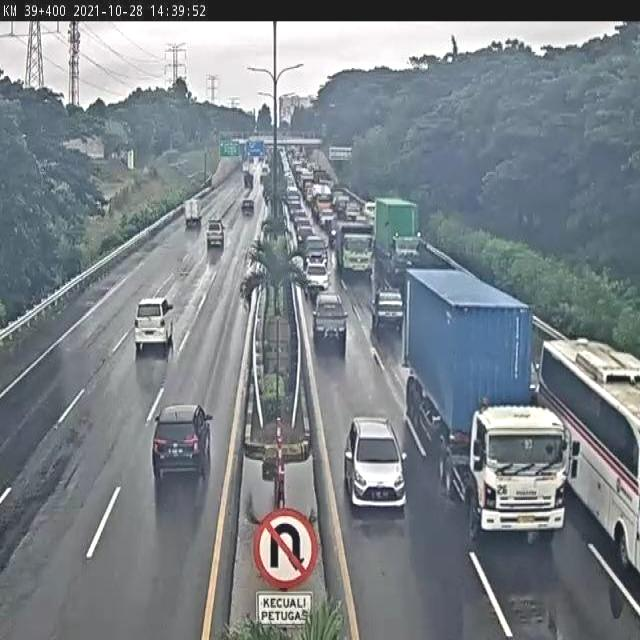Bus: (535, 335, 640, 575)
Car: (344, 416, 408, 510), (153, 400, 213, 486), (134, 295, 175, 353), (312, 292, 349, 355), (302, 263, 332, 297), (302, 235, 328, 265), (206, 219, 224, 248), (294, 220, 316, 243), (241, 198, 255, 216), (364, 202, 376, 220)
Truck: (401, 266, 581, 540), (374, 196, 423, 277), (333, 218, 375, 273), (368, 284, 404, 336), (312, 184, 334, 217), (183, 197, 202, 226)
